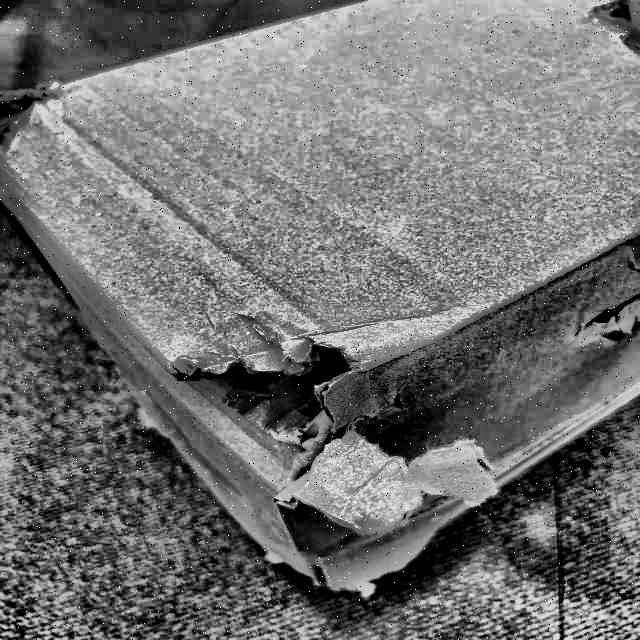box: (1, 0, 640, 606)
hole: (166, 316, 418, 480), (572, 289, 632, 349), (582, 0, 640, 33)
